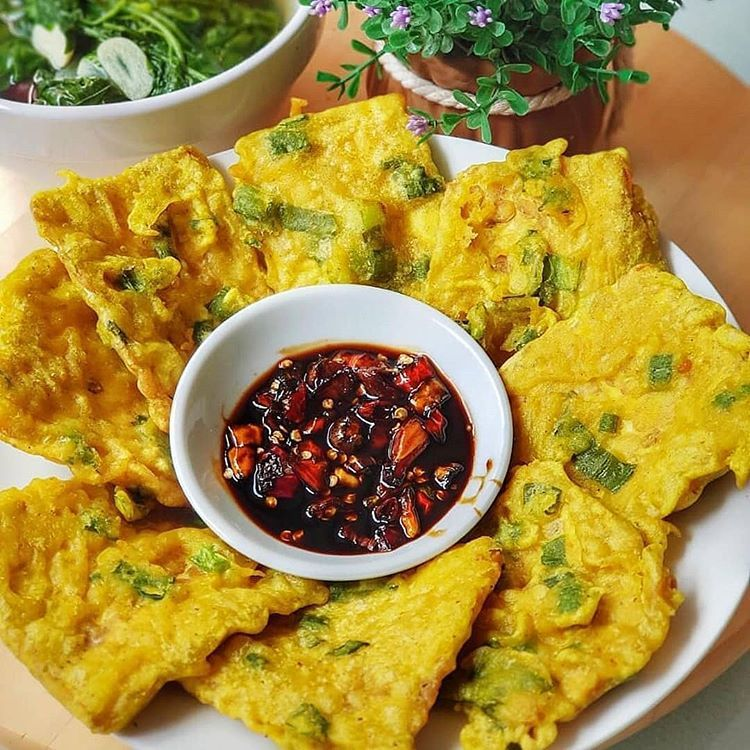Tempe: (1, 481, 281, 708), (471, 281, 743, 510), (221, 544, 492, 750), (477, 452, 654, 733), (98, 142, 272, 411), (412, 138, 662, 323), (253, 85, 439, 289)
